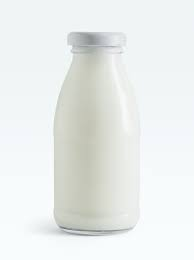milk: (54, 24, 138, 236)
